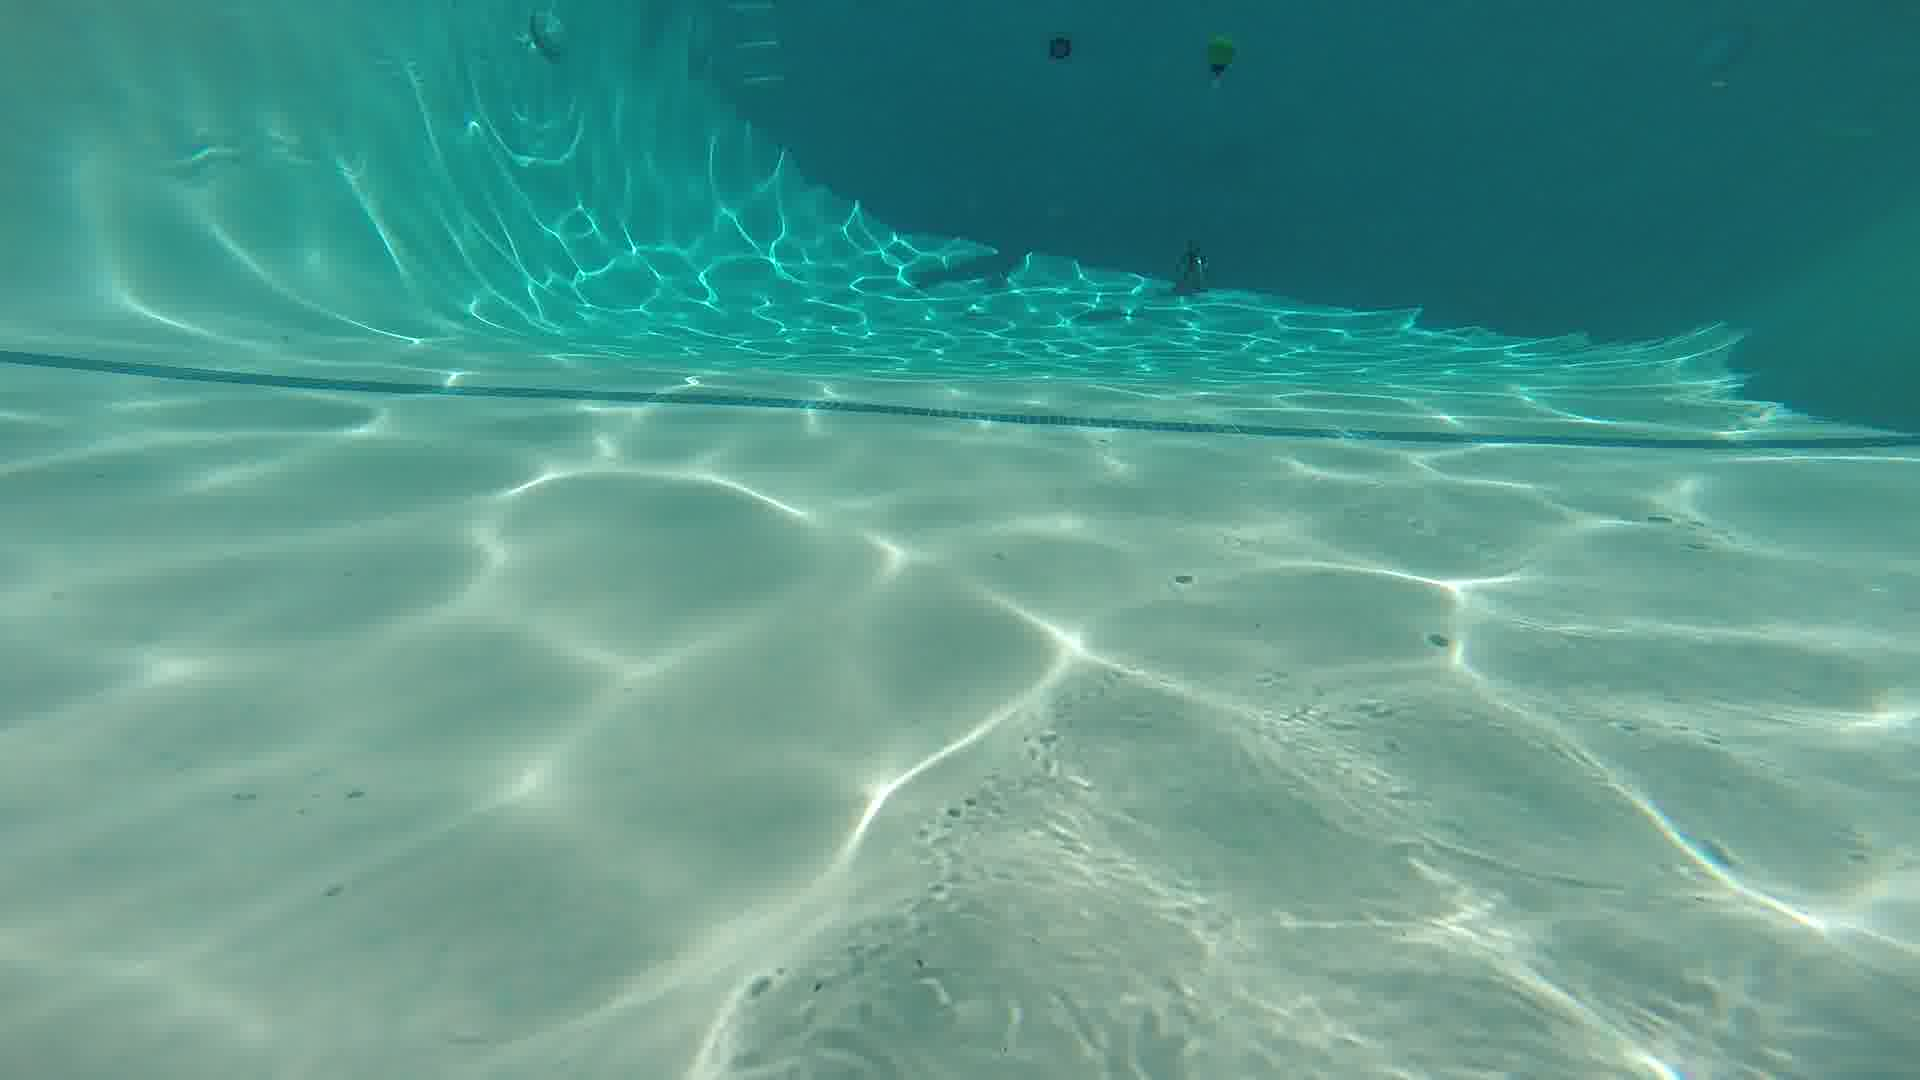yellow_buoy: (1207, 36, 1236, 76)
